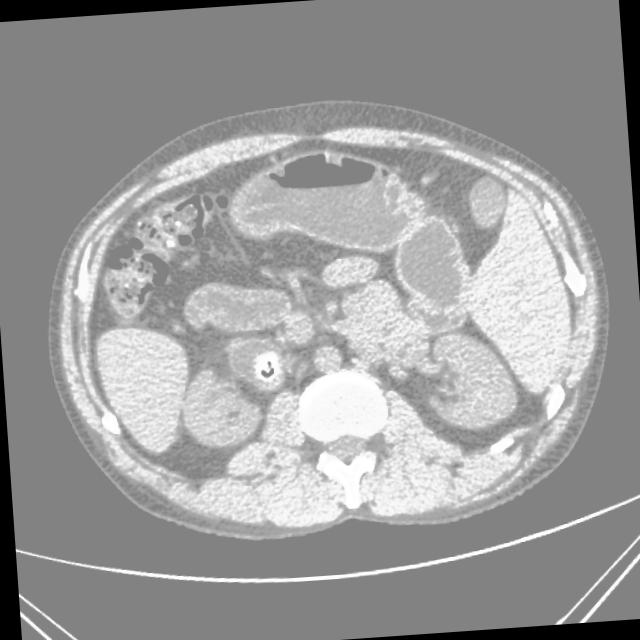STONE: (56, 119, 413, 331)
